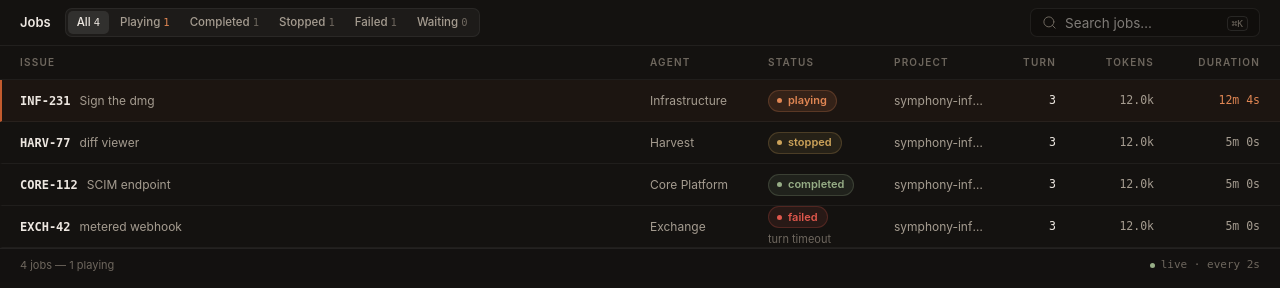
JobsList › filters stopped jobs via the Stopped filter
Click the button "Stopped 1" at (307, 23), box [270,11,344,34]
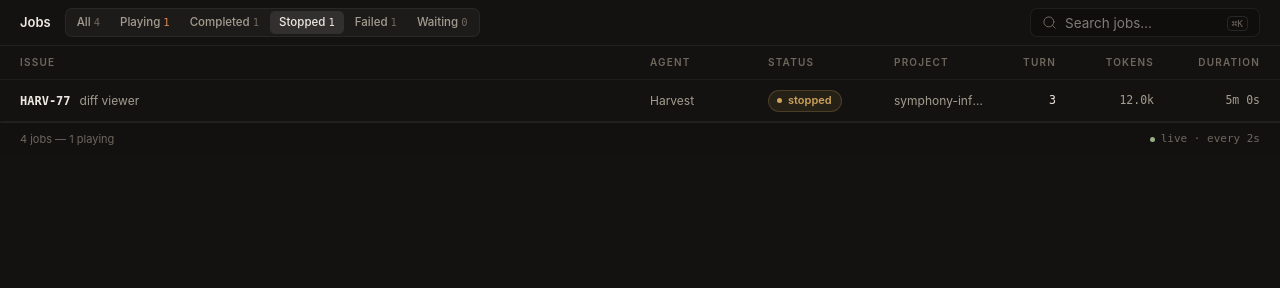
Expected: the text "HARV-77" is shown, [20,92,71,110]
Expected: the text "INF-231" is gone
